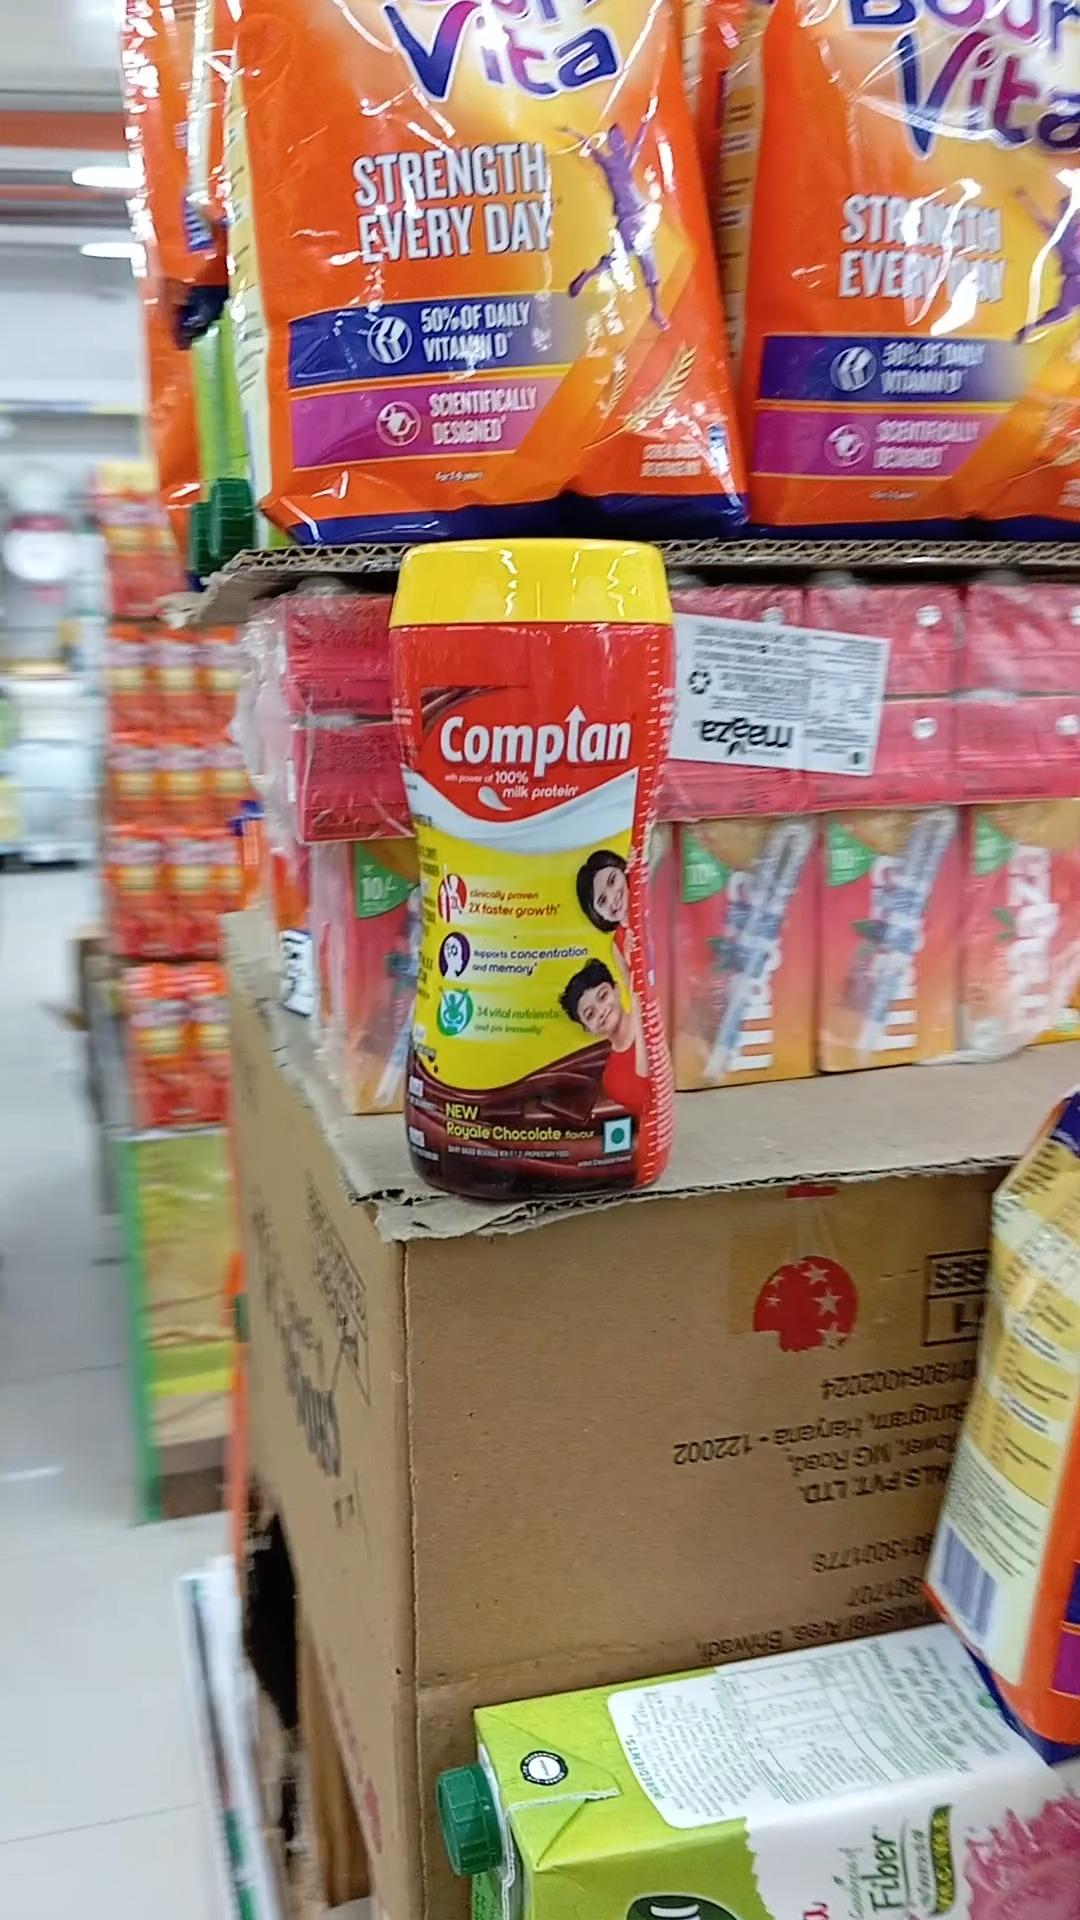COMPLAN_CHOCOLATE_200_GMS_JAR: (397, 534, 675, 1188)
